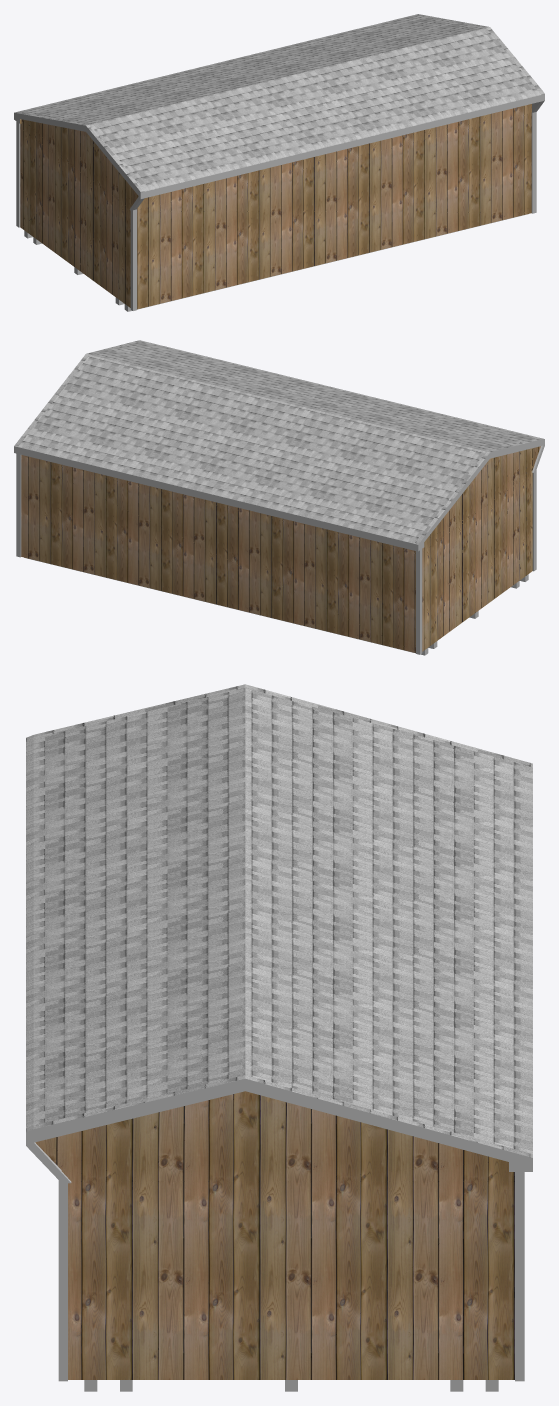
The model's file is Quaker Sheds_12x24.obj.
The picture shows the model from 3 angles, top to bottom: view 1: azimuth 30°, elevation 25°; view 2: azimuth 150°, elevation 25°; view 3: azimuth 270°, elevation 25°; orthographic projection. The views are drawn at different scales.
Parts seen in each view (by area): view 1: Shed, Roof, Sides, Trim, Floor; view 2: Roof, Shed, Sides, Trim, Floor; view 3: Roof, Shed, Sides, Trim.
Boxes of the visible parts, left/top/right/bottom form: Shed: left=20, top=104, right=531, bottom=309; Roof: left=15, top=14, right=544, bottom=192; Sides: left=14, top=94, right=544, bottom=211; Trim: left=16, top=112, right=536, bottom=310; Floor: left=24, top=214, right=528, bottom=311; Roof: left=14, top=340, right=543, bottom=544; Shed: left=21, top=446, right=540, bottom=652; Sides: left=14, top=439, right=544, bottom=551; Trim: left=16, top=453, right=536, bottom=654; Floor: left=24, top=557, right=528, bottom=655; Roof: left=26, top=684, right=532, bottom=1157; Shed: left=35, top=1091, right=514, bottom=1379; Sides: left=26, top=1078, right=532, bottom=1183; Trim: left=58, top=1172, right=524, bottom=1381.
Bounding box in the file's own units: 7.38 × 2.74 × 4.01.
